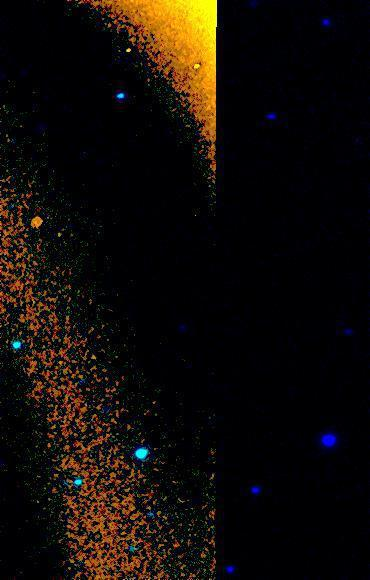star: (44, 220, 74, 250)
